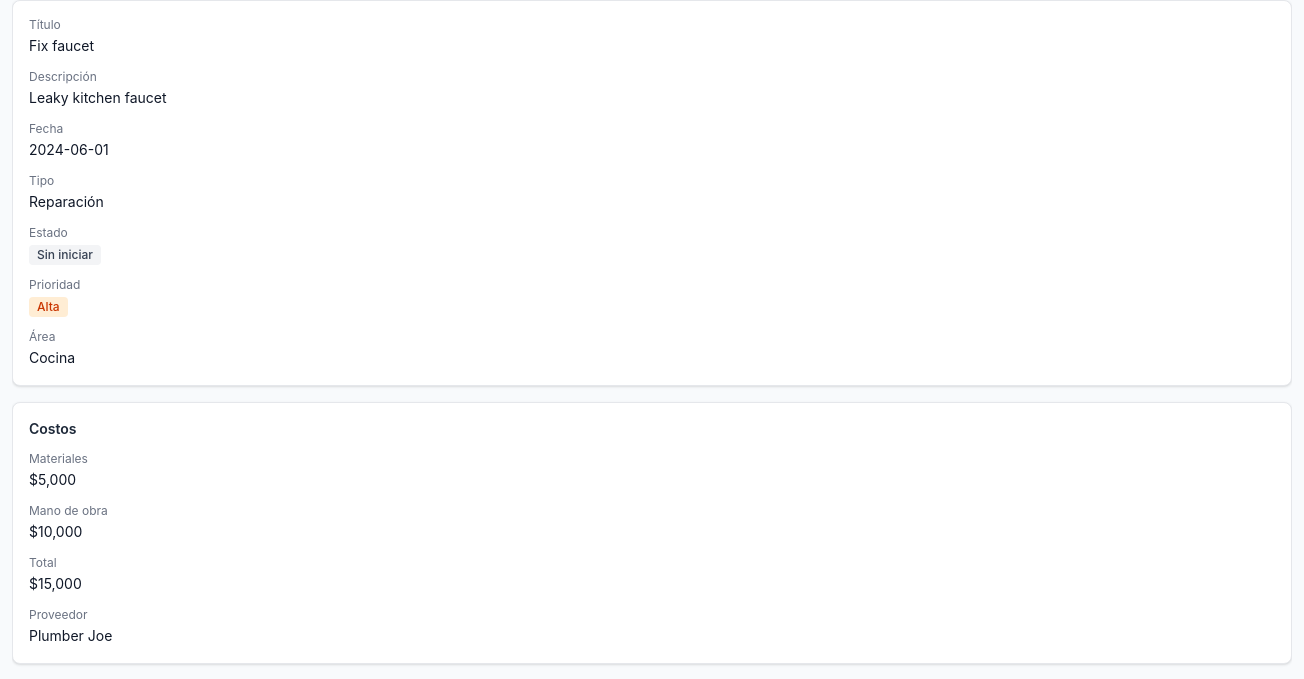
Scenario: DetalleEventoPage › should enter edit mode when a field is clicked
Expected: the text "Fix faucet" is shown, 29,37 -> 94,54
# Click on the title field button
Click the button "Título Fix faucet" at (45, 24), box 29,17 -> 1275,57
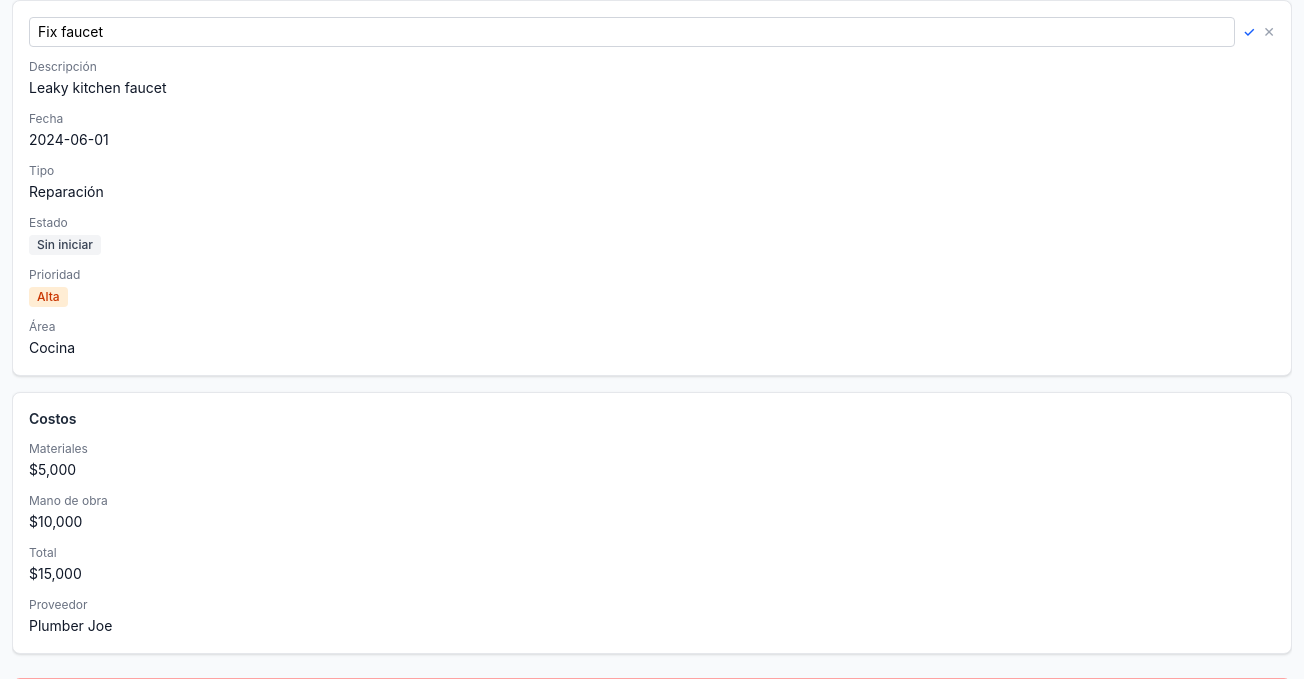
Expected: the field showing "Fix faucet" is shown, 29,17 -> 1235,47
